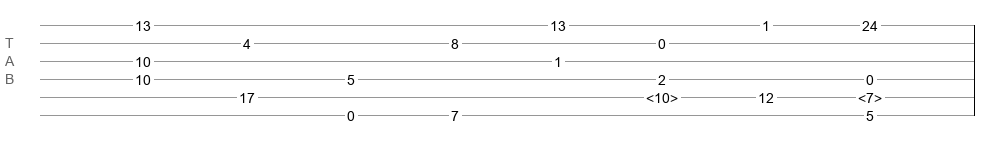0: (347, 108, 355, 118), (658, 36, 666, 46), (866, 72, 874, 82)
1: (554, 54, 562, 64), (762, 18, 770, 28)
10: (135, 72, 151, 82), (135, 54, 151, 64)
12: (758, 90, 774, 100)
13: (135, 18, 151, 28), (550, 18, 566, 28)
17: (239, 90, 255, 100)
2: (658, 72, 666, 82)
24: (862, 18, 878, 28)
4: (243, 36, 251, 46)
5: (347, 72, 355, 82), (866, 108, 874, 118)
7: (451, 108, 459, 118)
8: (451, 36, 459, 46)
harmonic: (646, 90, 678, 100), (858, 90, 882, 100)
